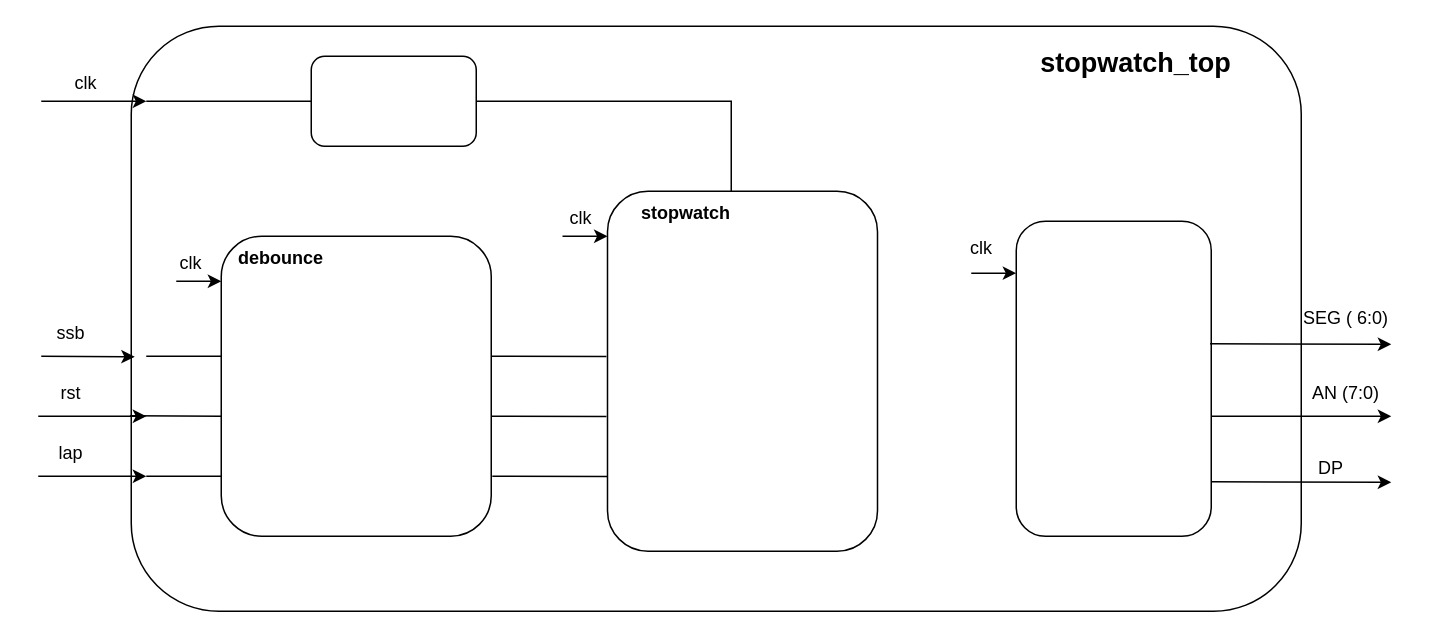
Some shapes in this 1430 by 638 pixel diagram are drawn without their labels. The shapes that lost their labels are listed below. From the top down, each one's centre as x and y in pixels, then its label:
At (393,100): "clock_en".
At (1113,378): "display_driver".
